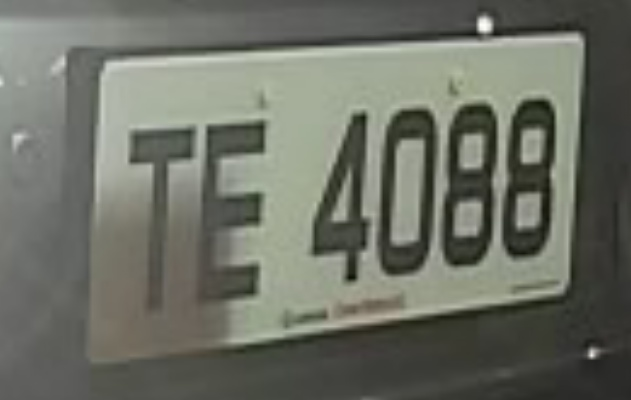0: (371, 100, 444, 282)
4: (298, 99, 380, 294)
8: (438, 96, 502, 271), (497, 93, 560, 268)
E: (190, 118, 271, 321)
T: (112, 110, 204, 325)
